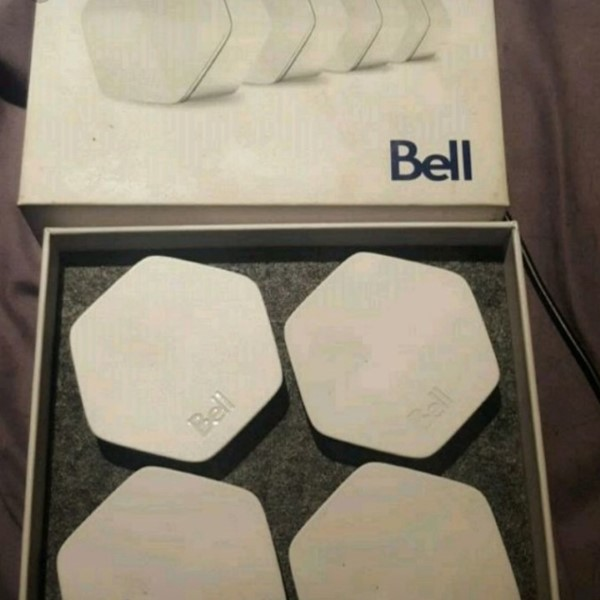pod: (282, 251, 503, 462), (66, 254, 282, 467), (53, 466, 290, 600), (287, 466, 524, 600)
